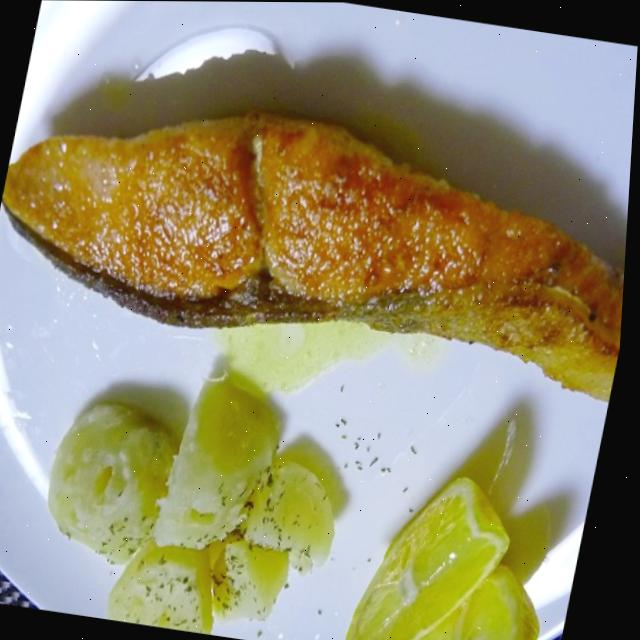熟制海鲜: (0, 72, 637, 420)
